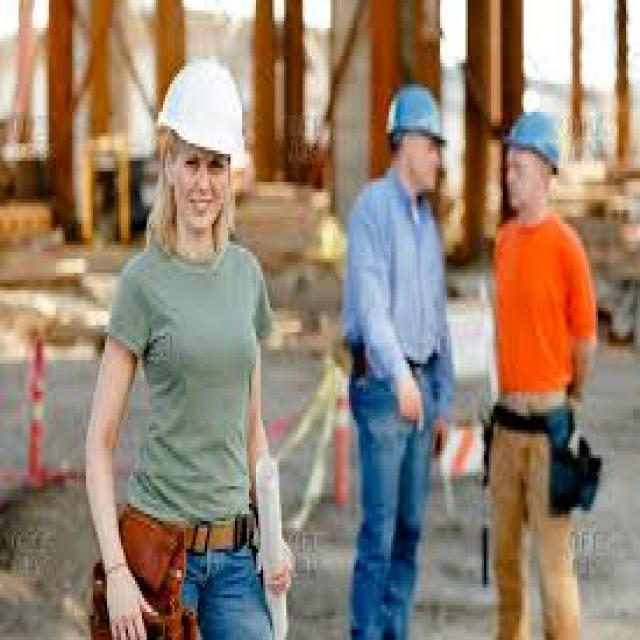Safety-Helmet: (151, 49, 254, 164), (379, 77, 454, 150), (498, 102, 570, 178)
